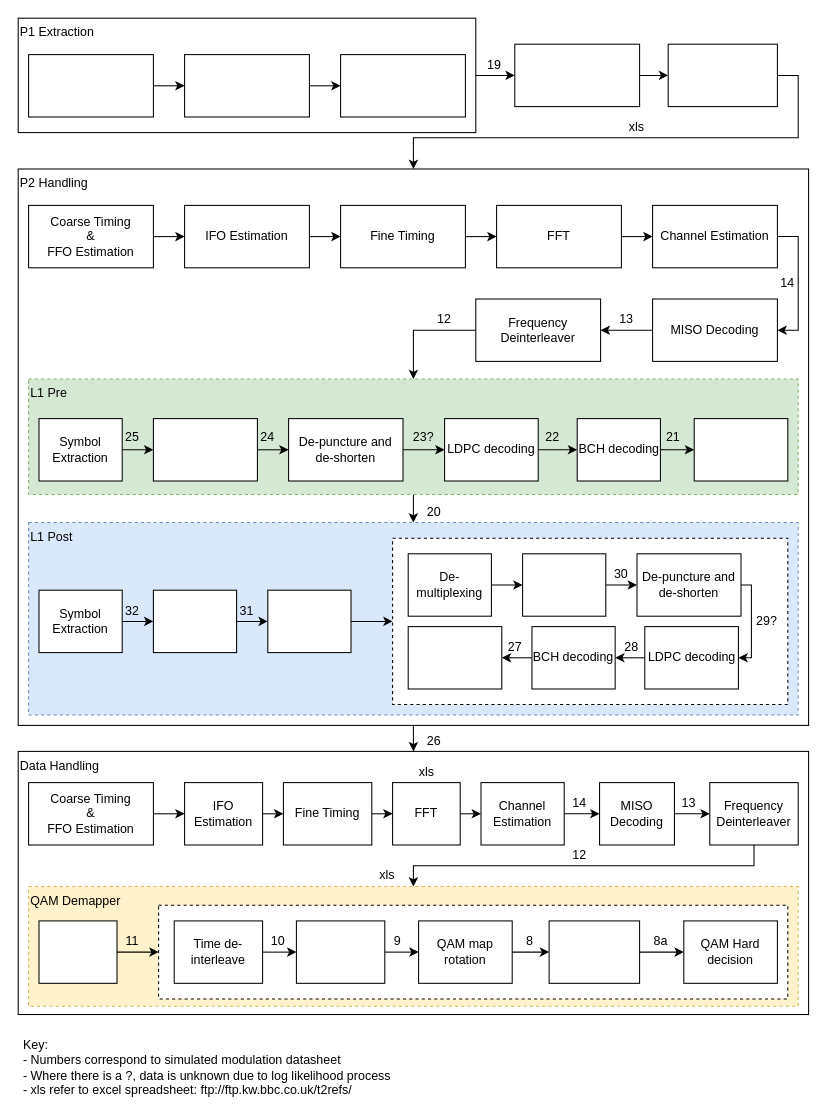
This 827x1117 diagram has some shape labels left out. Here are the shapes that lost their labels. From the top down, the centre of each, then its label:
At [90,85]: "Detection".
At [246,85]: "Validation".
At [402,85]: "Extraction".
At [577,75]: "SNR Estimation".
At [722,75]: "Guard Interval Estimation".
At [204,449]: "Soft BPSK demapping".
At [740,449]: "Parameter extraction".
At [564,584]: "Bit de-interleaving".
At [194,621]: "Soft QAM demapping".
At [309,621]: "Block count".
At [454,657]: "Remove zero padding and descrambling".
At [77,951]: "PLP Extraction".
At [340,951]: "Cell de-interleave".
At [594,951]: "Remove cyclic Q-delay".
